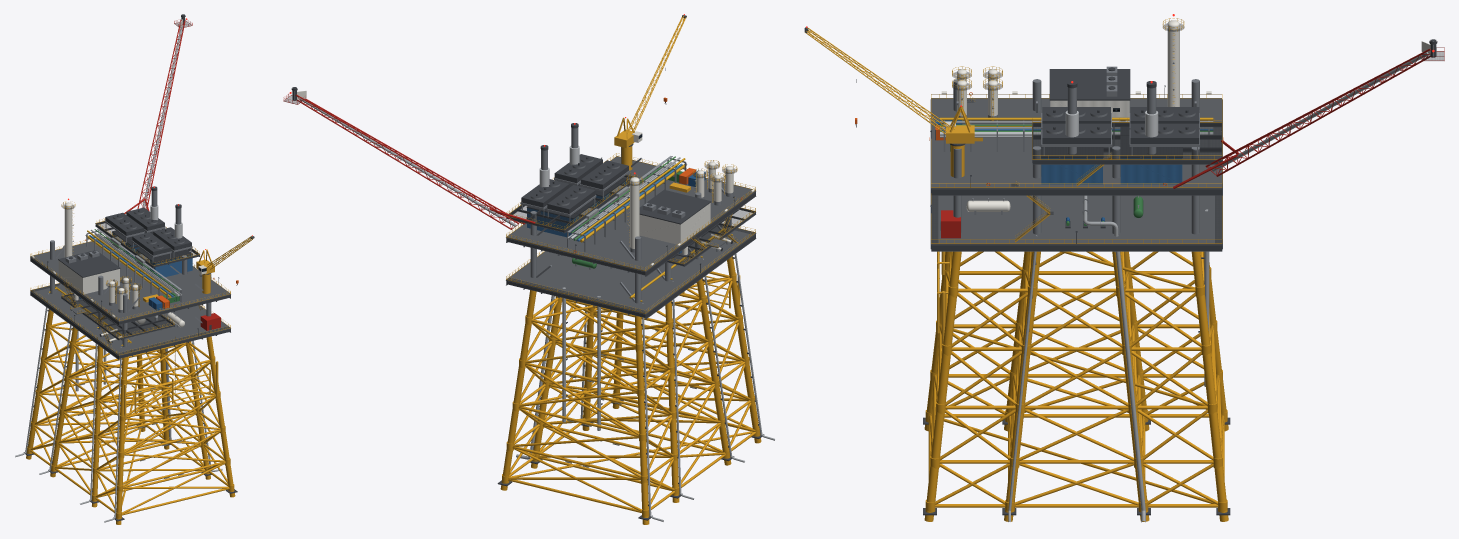
The model's file is cpp.glb.
3 renders of one model, left to right at view 1: azimuth 30°, elevation 25°; view 2: azimuth 150°, elevation 25°; view 3: azimuth 270°, elevation 25°, orthographic. The views are drawn at different scales.
Parts seen in each view (by area): view 1: cpp_static, crane_slew, crane_boom; view 2: cpp_static, crane_boom; view 3: cpp_static, crane_boom, crane_slew.
Boxes of the visible parts, <box> form: cpp_static: <box>15,14,237,524</box>; crane_slew: <box>196,249,214,274</box>; crane_boom: <box>207,235,254,269</box>; cpp_static: <box>283,87,774,524</box>; crane_boom: <box>627,14,686,133</box>; cpp_static: <box>923,14,1444,522</box>; crane_boom: <box>804,26,954,134</box>; crane_slew: <box>945,105,974,143</box>.
Bounding box in the file's own units: 102 × 141 × 145.
25 materials, 5 textured.
